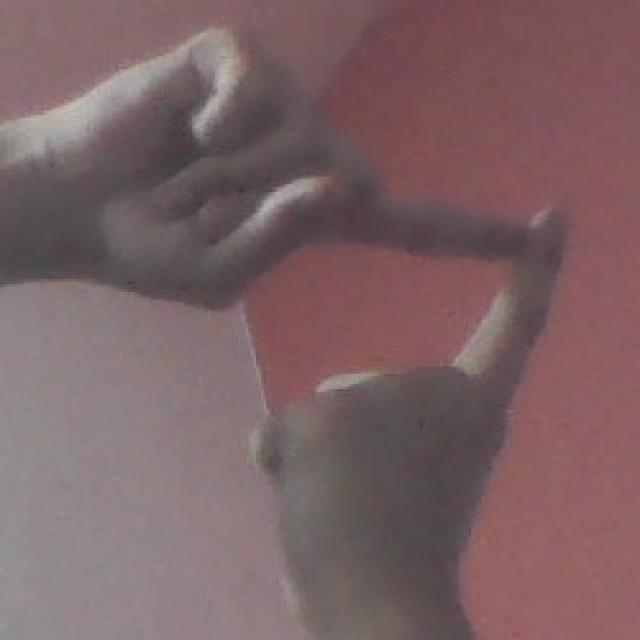Alphabet-E: (1, 28, 563, 640)
